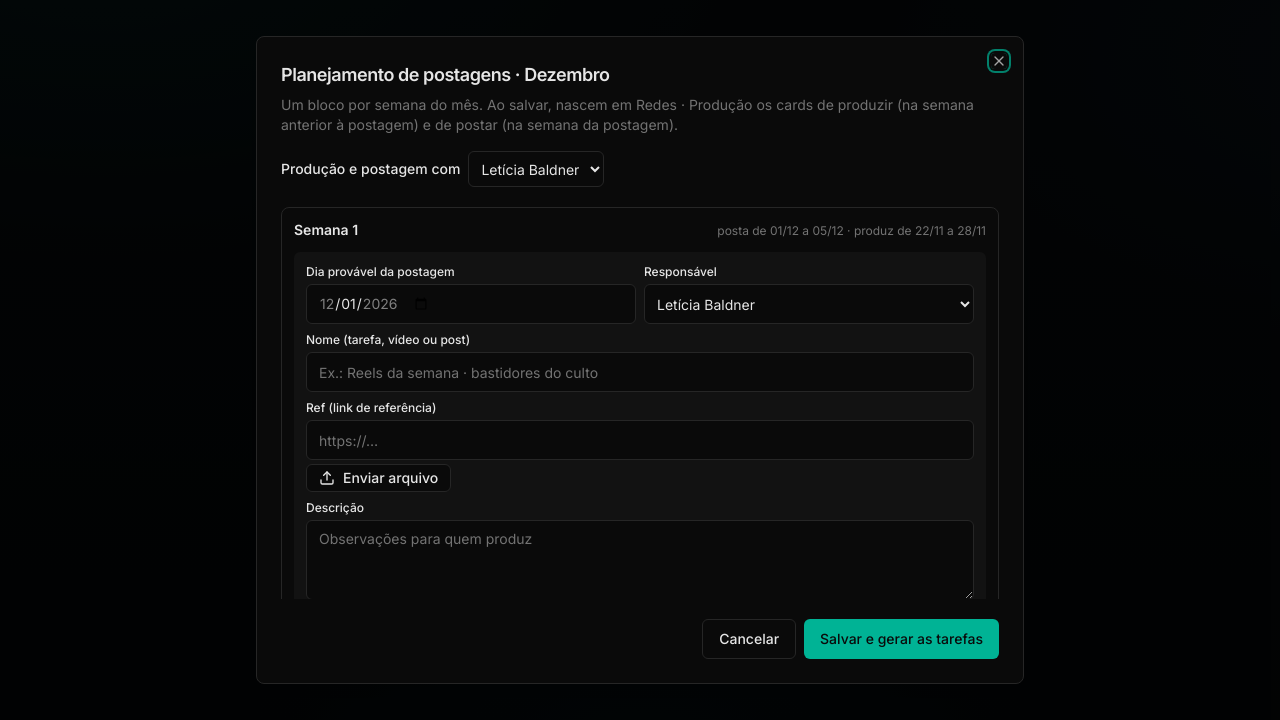
planejamento de postagens · o editor › o motivo do servidor aparece e a tela fica aberta
The image size is (1280, 720).
Type "Reels" into the field labelled "Nome (tarefa, vídeo ou post)".
click(640, 372); type("Reels")  # box [306,352,974,392]
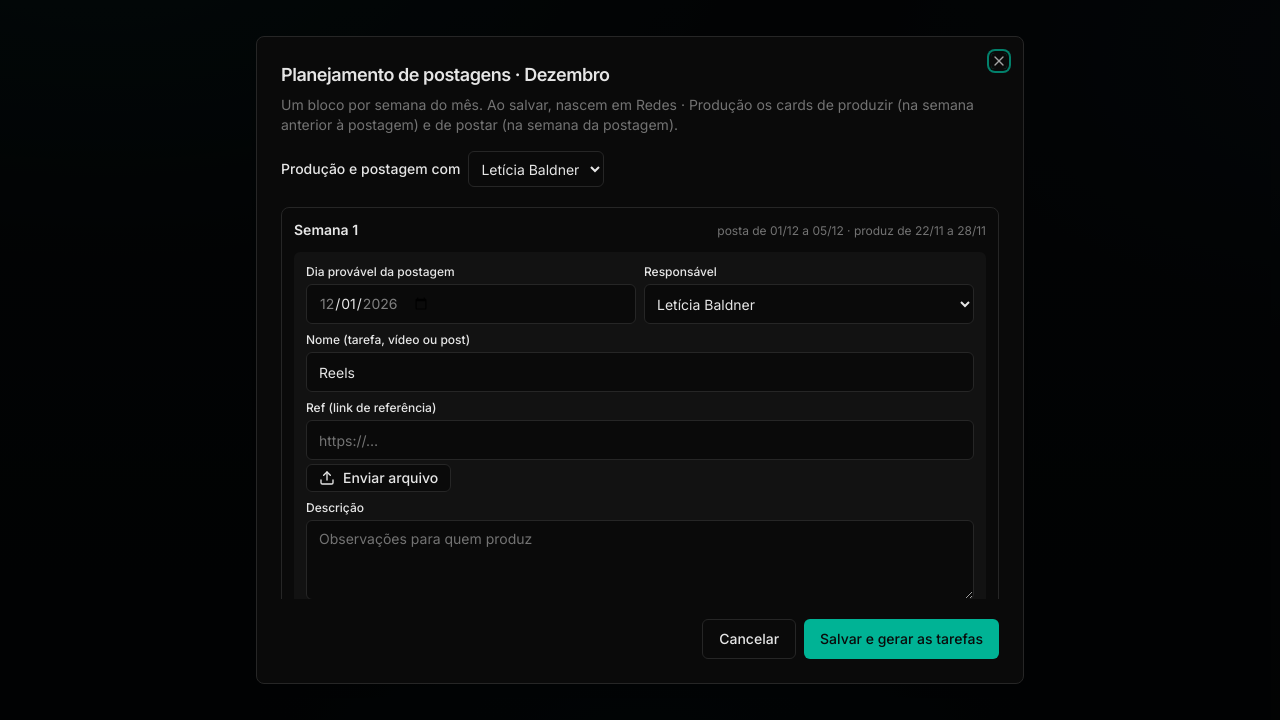
Click the button "Salvar e gerar as tarefas".
click(902, 639)  # box [804,619,999,659]
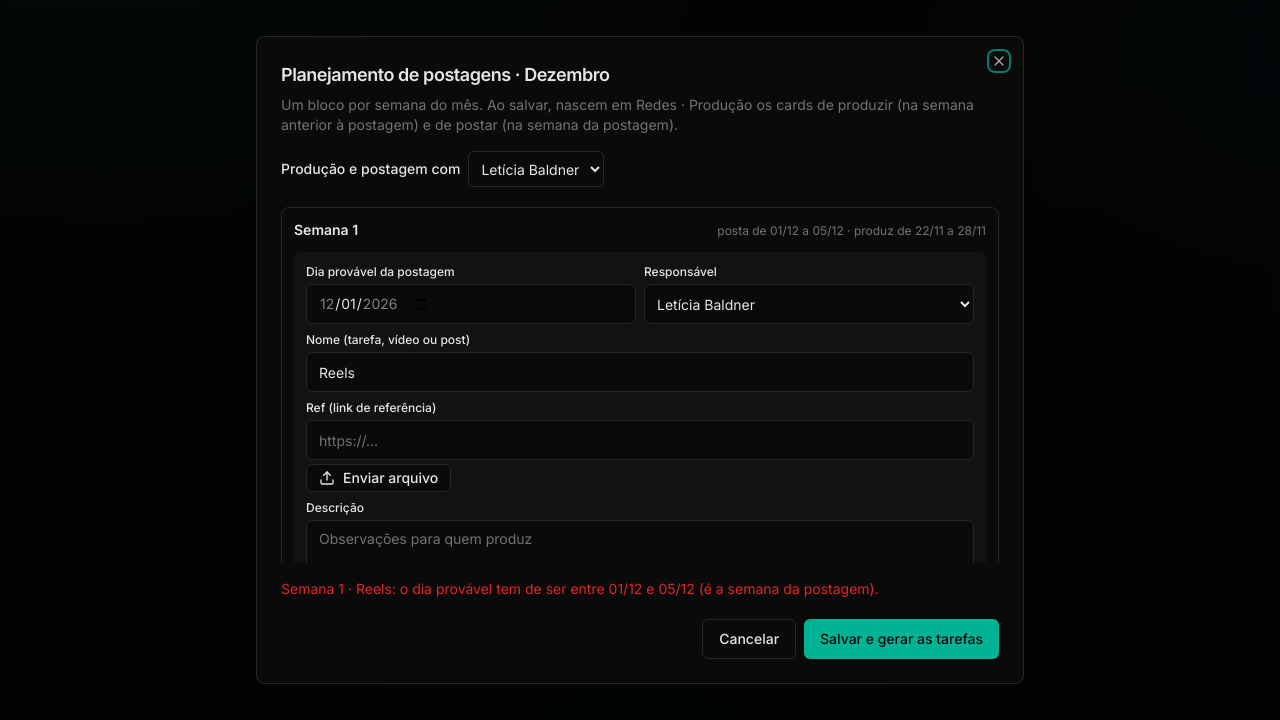
Now the message shows "entre 01/12 e 05/12", box [281,580,879,597]
